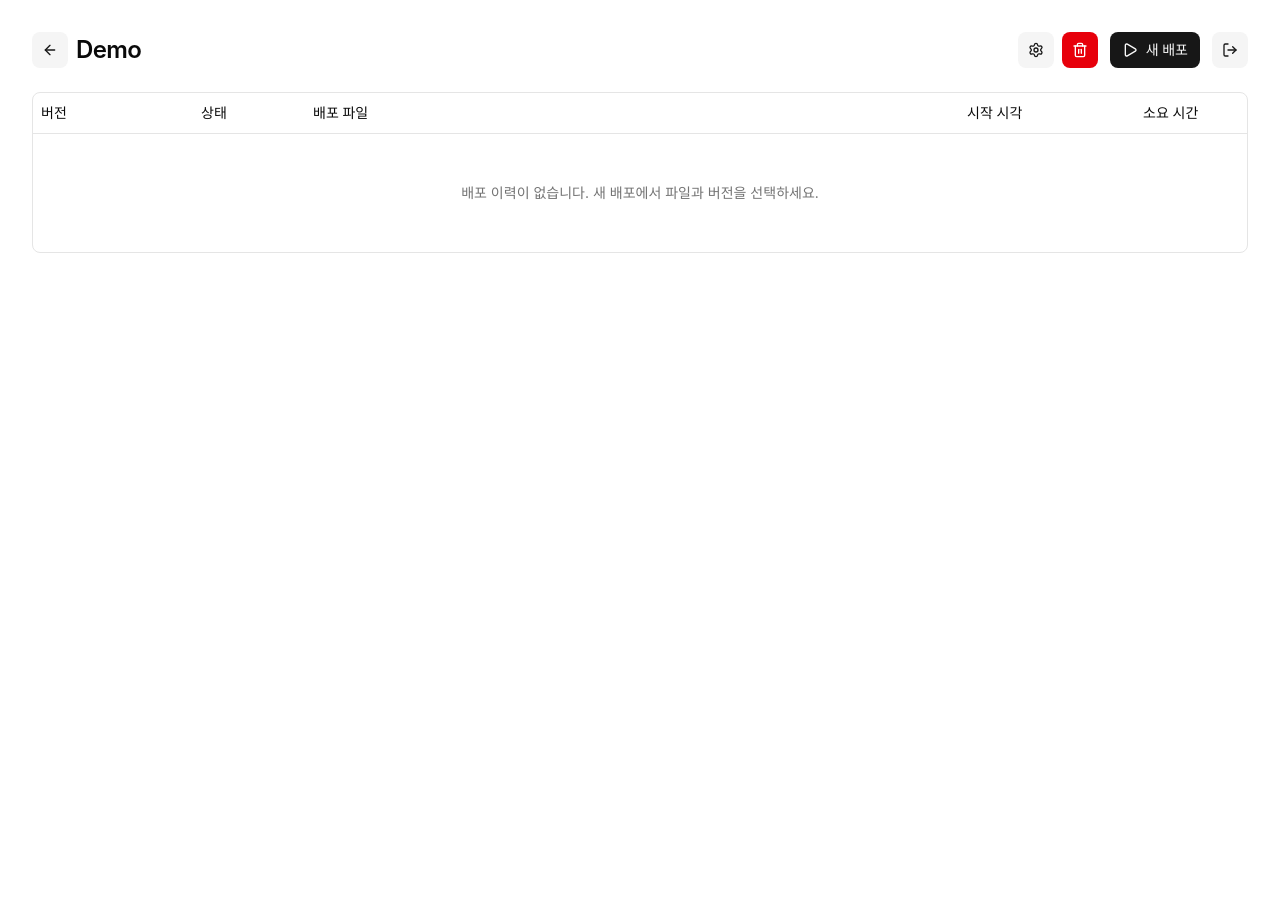
Test: React deployment console › project removal requires confirmation and returns to the project list
Expected: the heading "Demo" is shown, [76, 32, 141, 68]
Click the button named "프로젝트 삭제": (1080, 50) [1062, 32, 1098, 68]
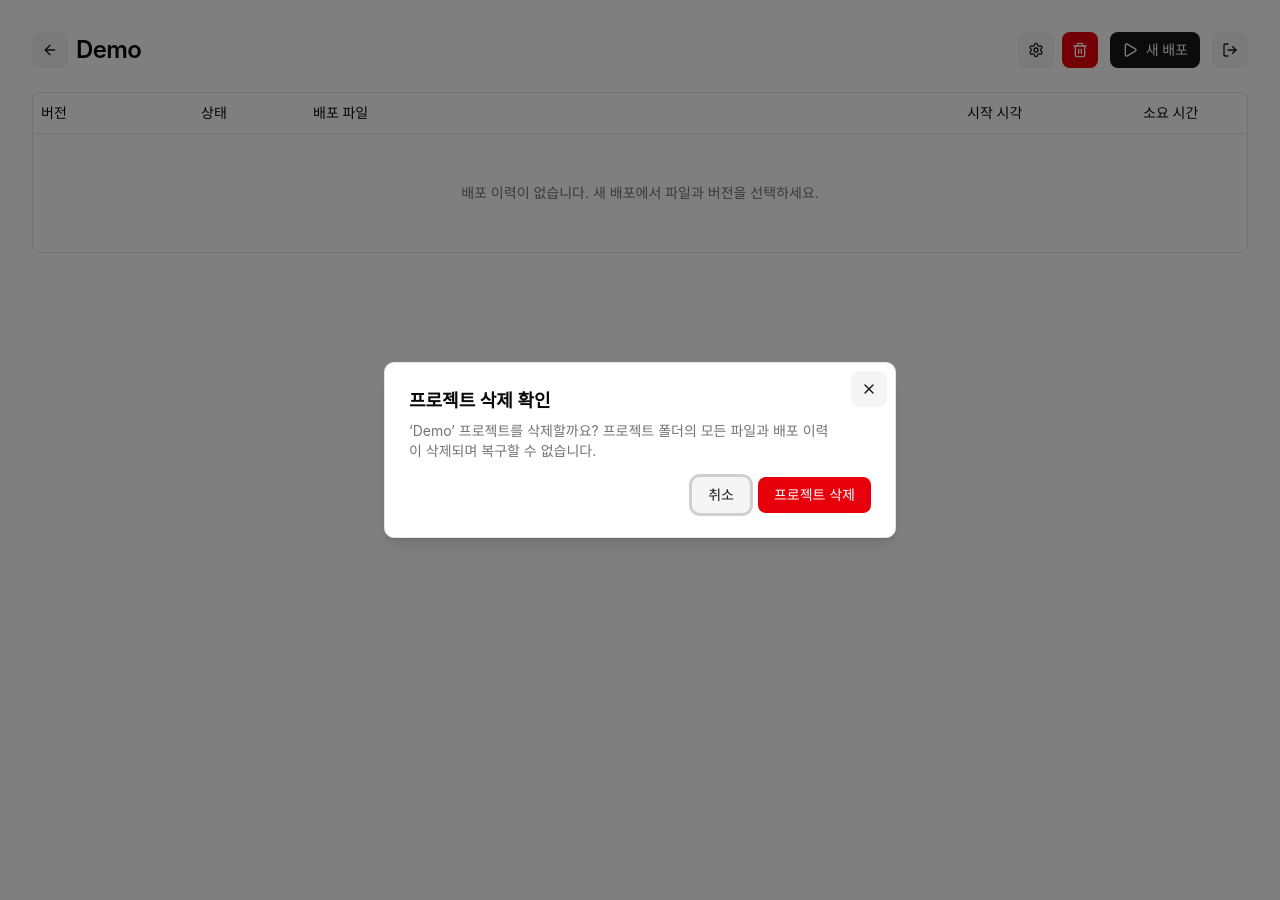
Now the dialog "프로젝트 삭제 확인" shows "복구할 수 없습니다", box [409, 422, 828, 459]
Click the button "프로젝트 삭제": (814, 495) [758, 477, 871, 513]
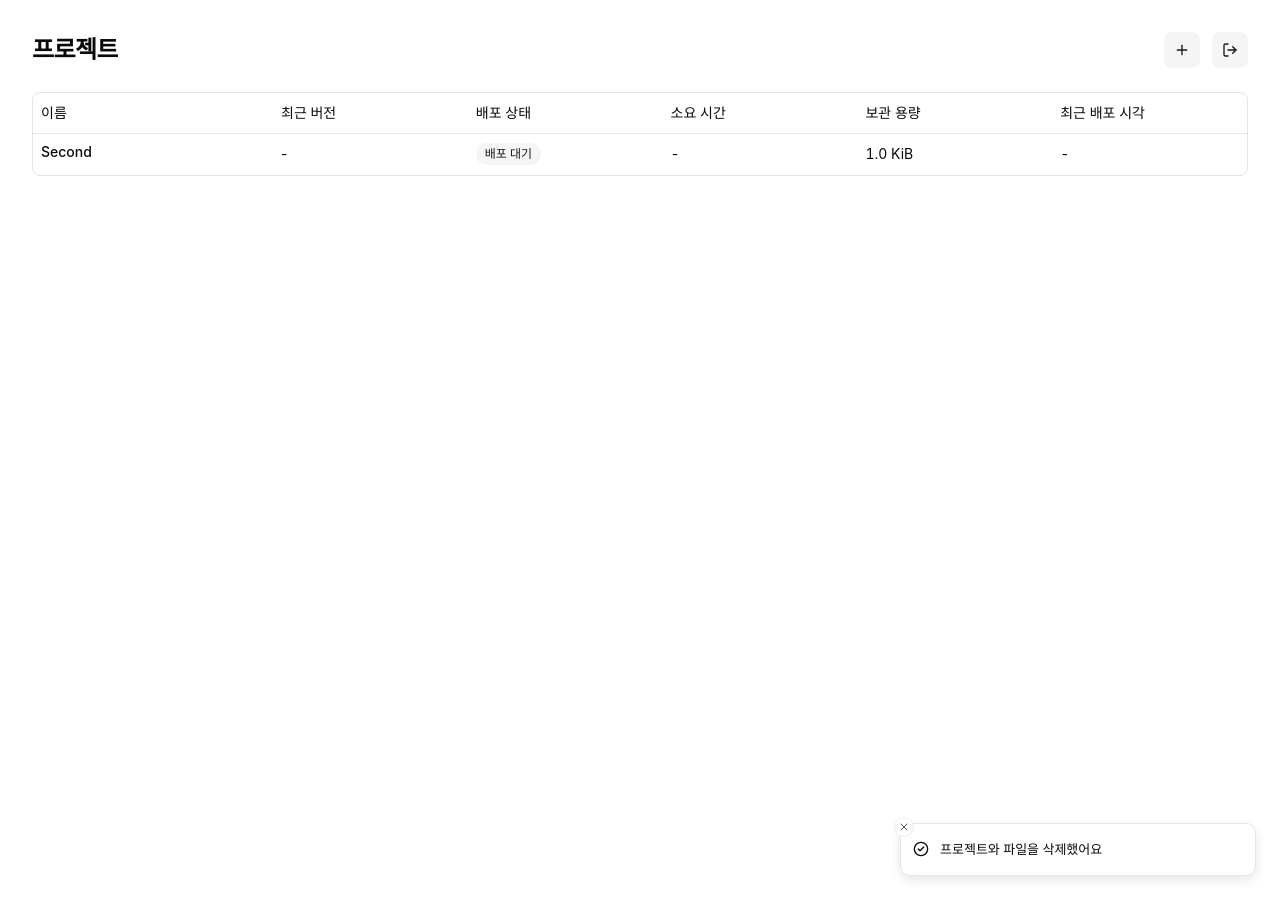
Now the link "Second" is shown, box [41, 142, 92, 162]
